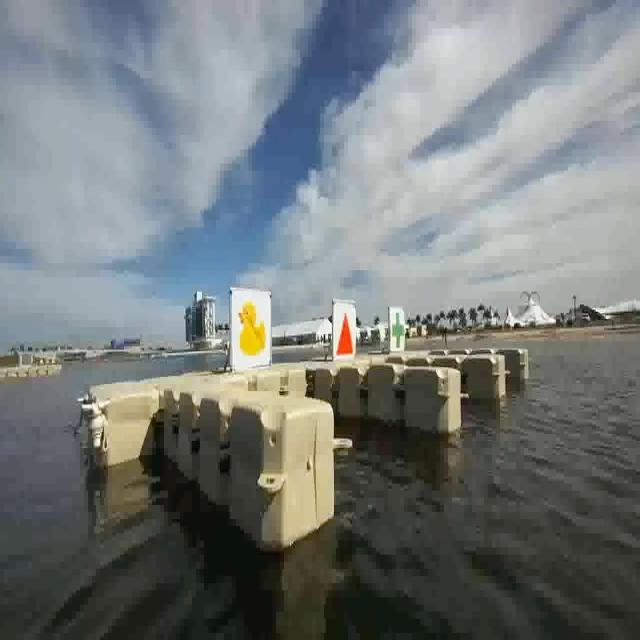blue-cross: (387, 306, 405, 352)
yellow-duck: (231, 286, 273, 374)
